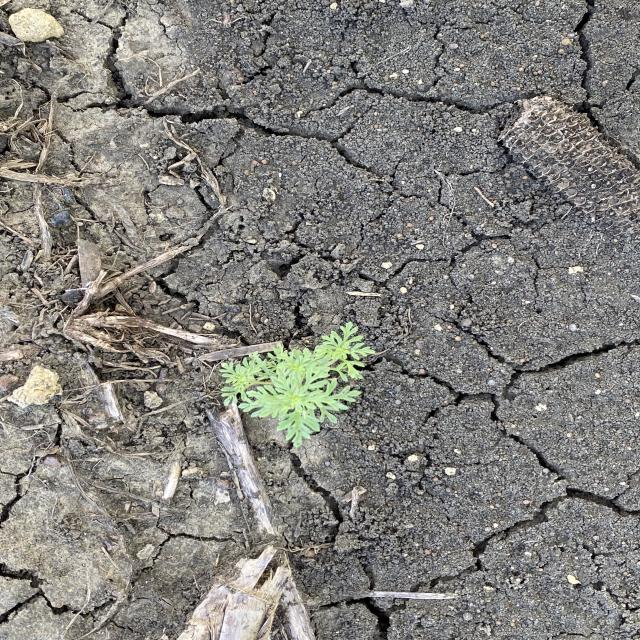Ragweed: (219, 321, 377, 450)
